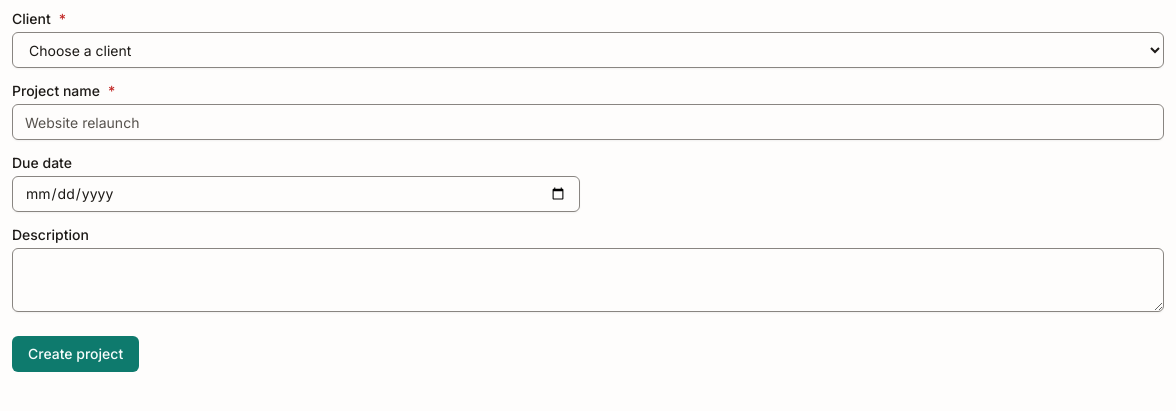
Scenario: ProjectForm, creating › shows a field error beside its field and keeps what was typed (AC-2)
Select "Northwind Coffee" in the dropdown labelled "Client *" at (588, 50), box [12,32,1164,68]
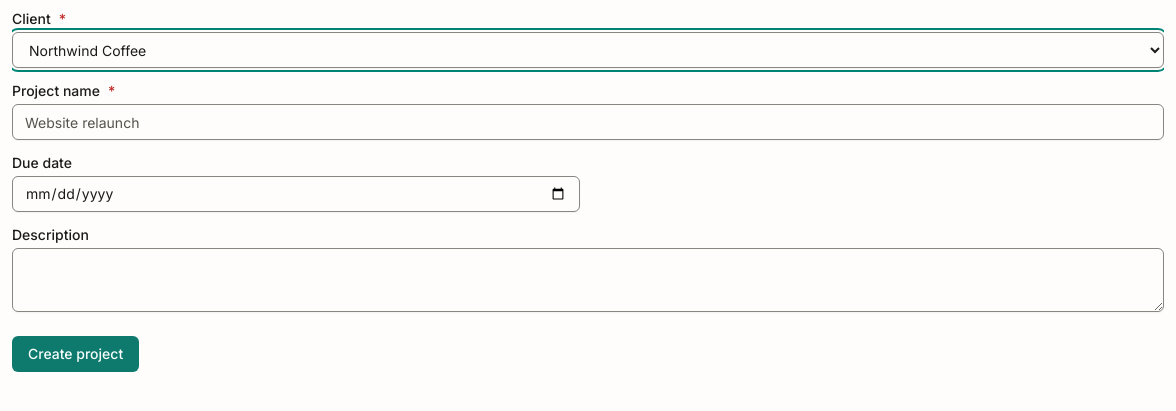
Type "Draft notes" into the text box labelled "Description" at (588, 280), box [12,248,1164,312]
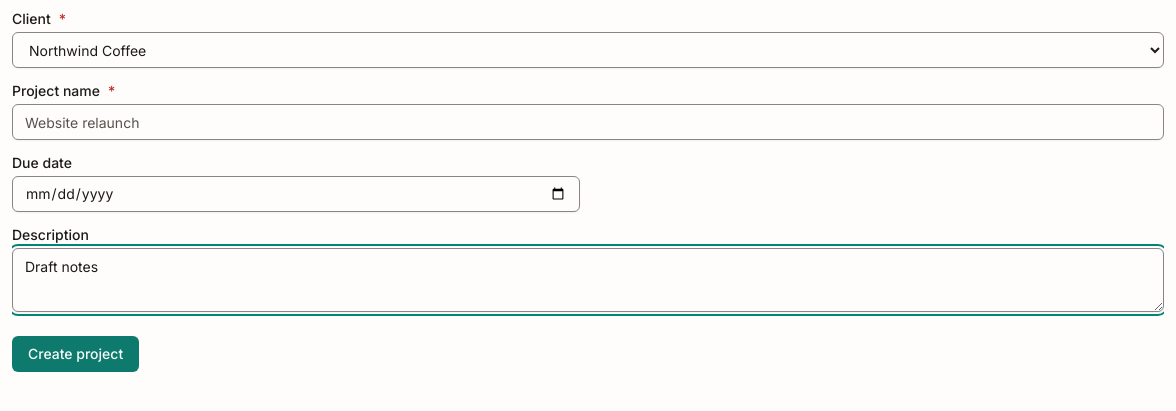
Click the button "Create project" at (76, 354), box [12,336,139,372]
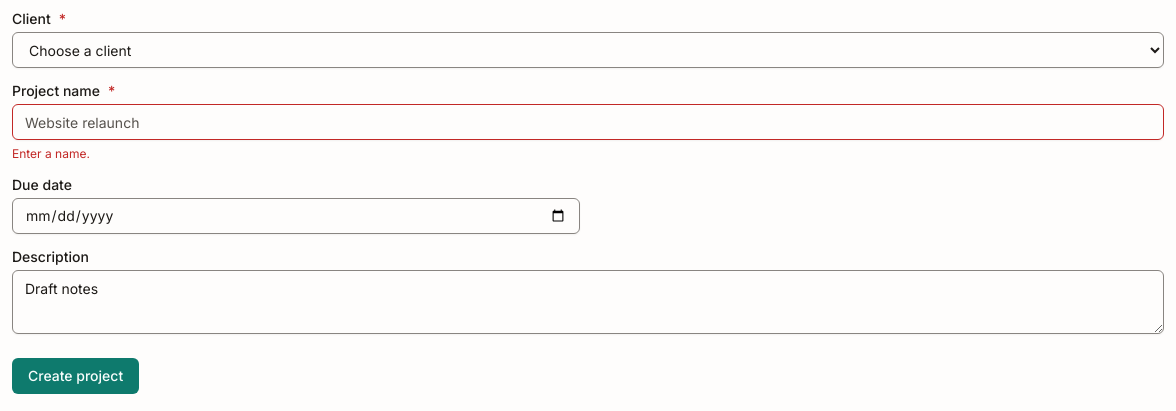
Check: the text "Enter a name." is shown, box [12,146,90,161]
